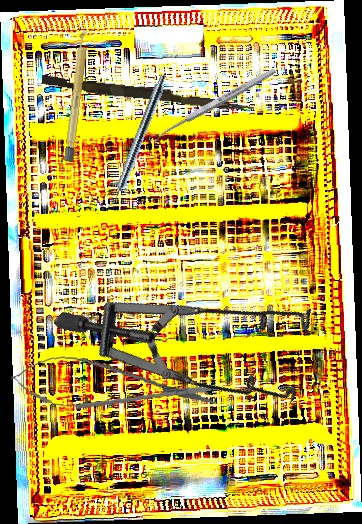Handpiece: (104, 72, 169, 213)
Micro Scissor: (9, 350, 222, 423)
Pusher: (40, 74, 256, 113)
Scalpel Handle: (63, 26, 91, 164)
Speculum: (52, 187, 347, 477)
Surgical Spoon: (147, 66, 278, 144)
